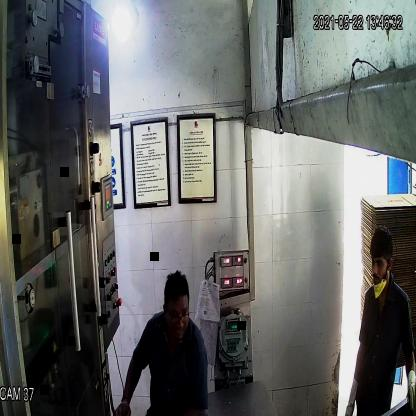goggles: (163, 306, 192, 325)
no_goggles: (368, 256, 390, 271)
